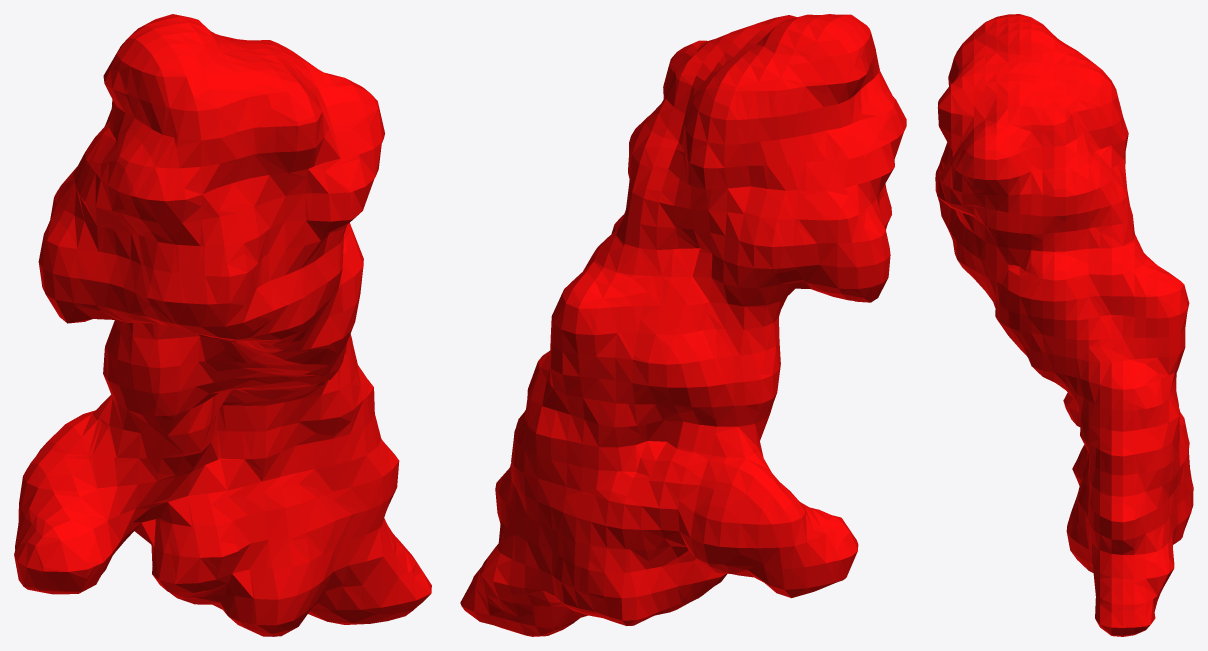
The model's file is obgE_coarse.dae.
The picture shows the model from 3 angles, left to right: view 1: azimuth 30°, elevation 25°; view 2: azimuth 150°, elevation 25°; view 3: azimuth 270°, elevation 25°; orthographic projection. The views are drawn at different scales.
Visible parts, largest first — view 1: obgE; view 2: obgE; view 3: obgE.
Boxes of the visible parts, x1=… form: obgE: x1=14, y1=14, x2=431, y2=636; obgE: x1=460, y1=14, x2=906, y2=636; obgE: x1=935, y1=14, x2=1193, y2=636.
Bounding box in the file's own units: 65.6 × 104 × 47.63.
